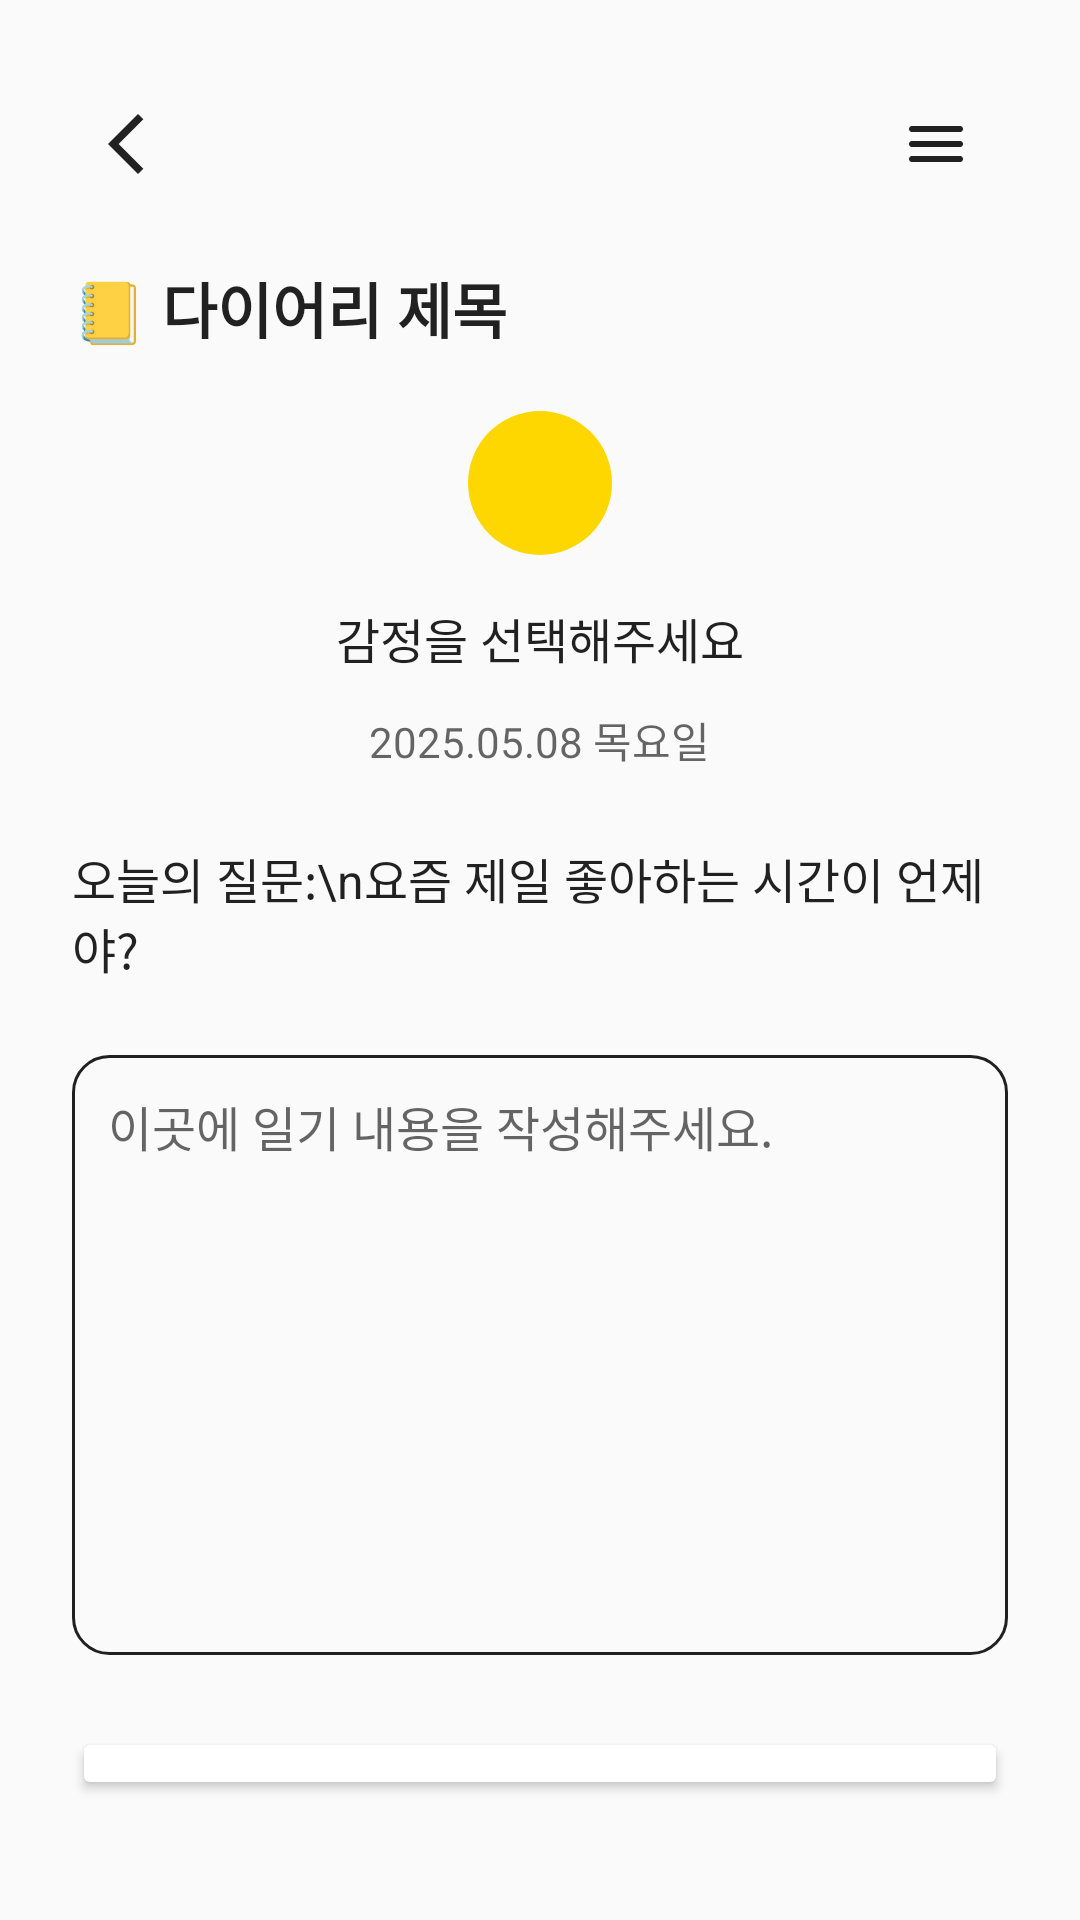

Icons on this 1080 × 1920 Android screen, each with its box as (x1=x1, y1=y1, x2=x2, y2=y2):
뒤로가기: (x1=108, y1=114, x2=143, y2=174)
메뉴: (x1=909, y1=126, x2=963, y2=162)
